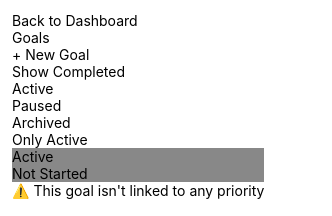
Test: GoalsScreen › List View › each tab shows only goals in that record state
This screenshot has width=332, height=216.
Expected: the text "Only Active" is shown, [12,131,88,148]
Expected: the text "Only Paused" is not shown
Step 1. Click the tab with aria-label "Show paused goals" → (37, 106), box [12,97,61,114]
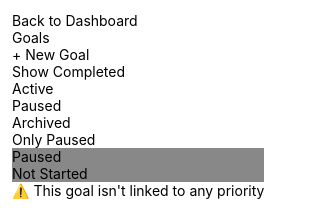
Expected: the text "Only Archived" is not shown
Result: the button "Only Active" is gone
Result: the text "Only Paused" is shown at [12,131,96,148]
Step 2. Click the tab with aria-label "Show archived goals" → (41, 122), box [12,114,71,131]
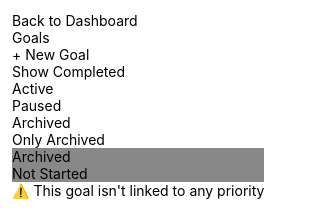
Expected: the button "Only Active" is not shown
Result: the button "Only Paused" is gone
Result: the text "Only Archived" is shown at [12,131,105,148]
